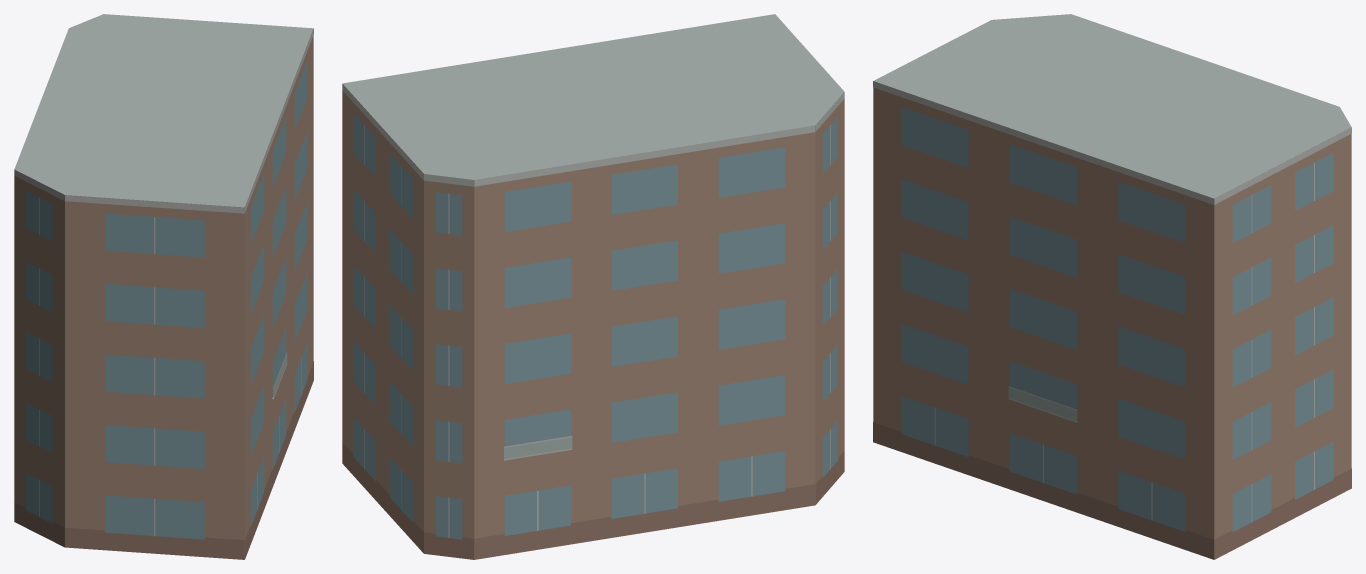
Rendered from survey-upis-32626551.glb.
3 renders of one model, left to right at view 1: azimuth 30°, elevation 25°; view 2: azimuth 150°, elevation 25°; view 3: azimuth 270°, elevation 25°, orthographic. The views are drawn at different scales.
Parts seen in each view (by area): view 1: survey-upis-32626551.tmp; view 2: survey-upis-32626551.tmp; view 3: survey-upis-32626551.tmp.
Part boxes in pixels (left/top/right/bottom): survey-upis-32626551.tmp: left=14, top=14, right=313, bottom=559; survey-upis-32626551.tmp: left=342, top=14, right=844, bottom=559; survey-upis-32626551.tmp: left=873, top=14, right=1351, bottom=559.
Size of the model in its own units: 15.14 by 13.8 by 16.58.
